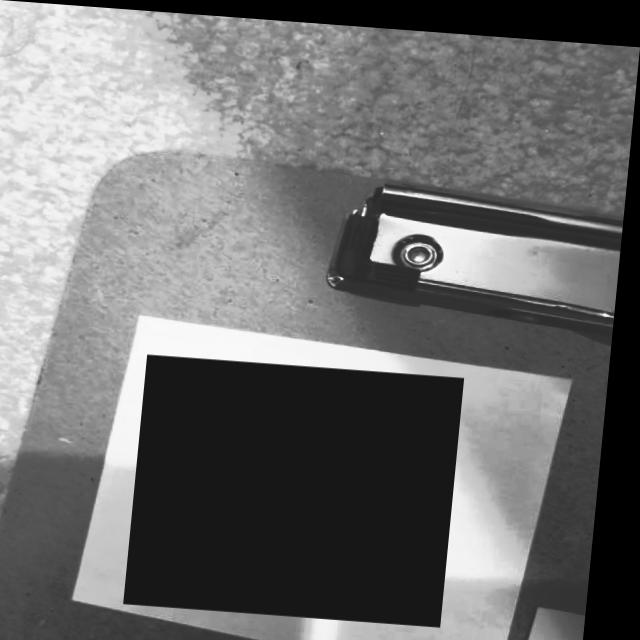qr_code: (135, 352, 471, 619)
